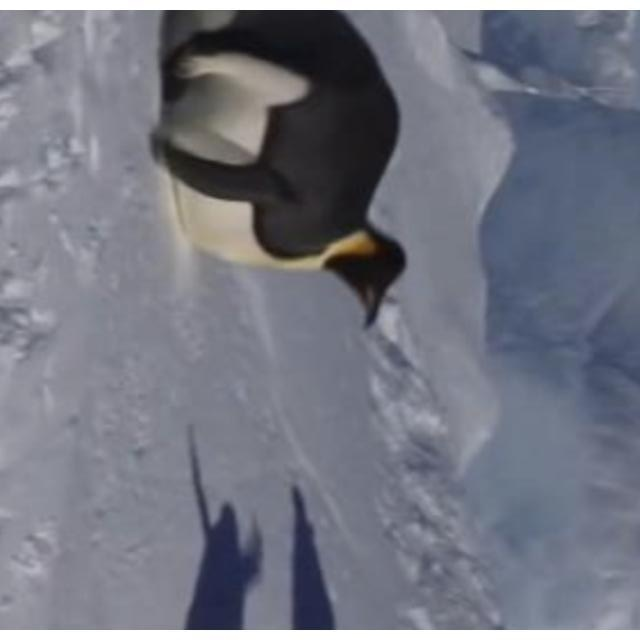penguin: (148, 14, 408, 330)
